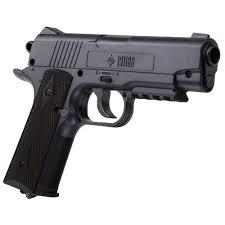weapon: (2, 23, 223, 200)
